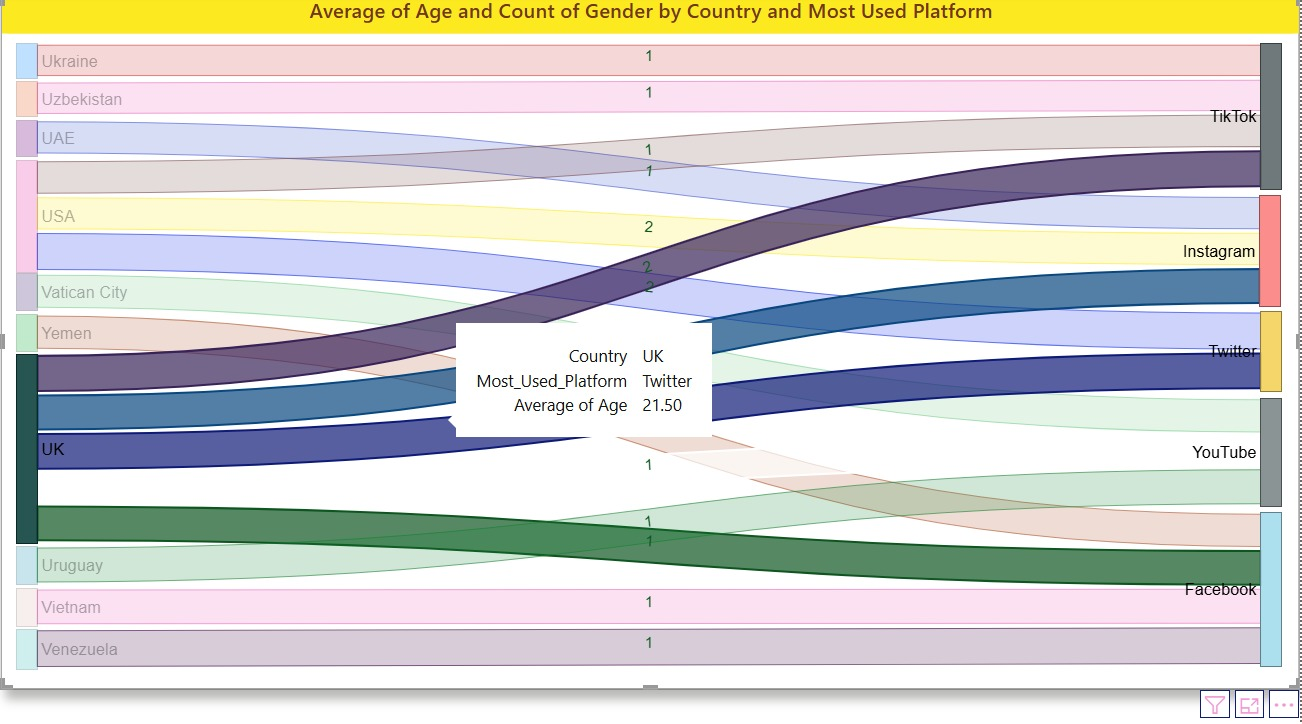

What the dashboard file says about the page in this screenshot:
{"tool":"powerbi","page":{"name":"Visual repr","canvas":[1280,720],"ordinal":1},"visuals":[{"type":"sankey02300D1BE6F5427989F3DE31CCA9E0F32020","title":"Average of Age and Count of Gender by Country and Most Used Platform","fields":{"Source":["Students Social Media Addiction.Country"],"SourceLabels":["Count(Students Social Media Addiction.Gender)"],"Destination":["Students Social Media Addiction.Most_Used_Platform"],"Weight":["Avg(Students Social Media Addiction.Age)"]},"box":[9.6,0,1270.7,679.2],"z":0}]}

Visuals, with their boxes in screenshot pixels (x1, y1, x2, y2), scaled from the page's 1280x720 canvas onto the 1302x724 screenshot:
"Average of Age and Count of Gender by Country and Most Used Platform" sankey02300D1BE6F5427989F3DE31CCA9E0F32020: bbox=[10, 0, 1301, 683]
